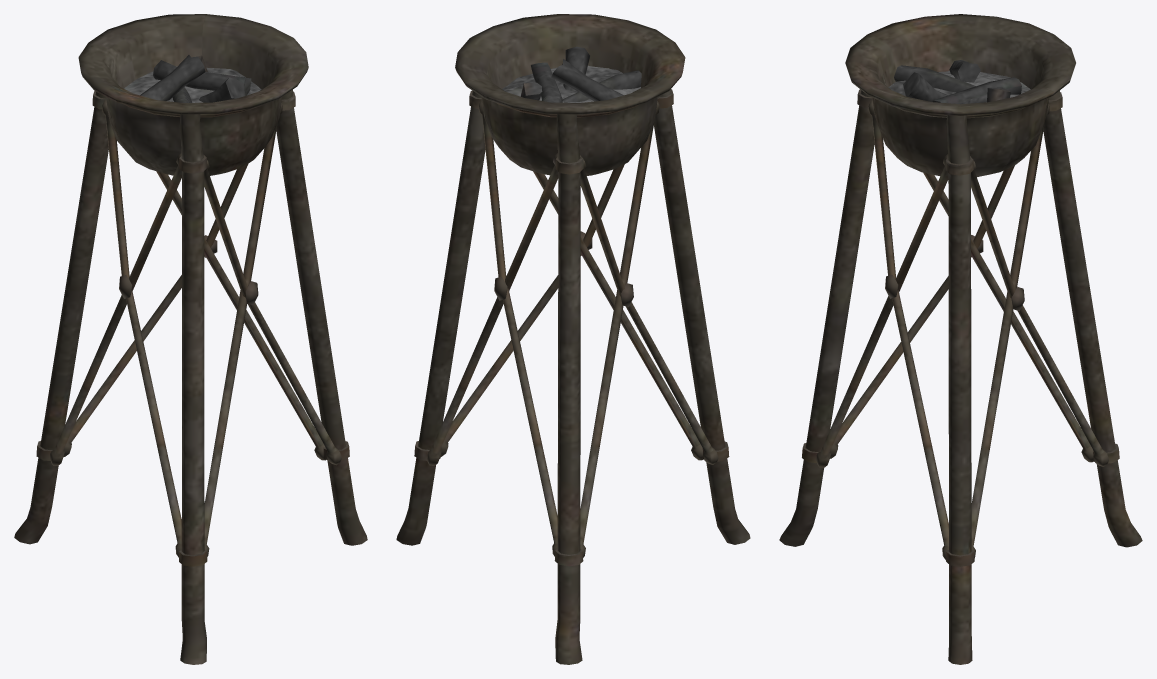
File: GEN_PRO_Brasero_Medium_Metal_04A_LOD0-transformed.glb
3 views of the same model, side by side, from view 1: azimuth 30°, elevation 25°; view 2: azimuth 150°, elevation 25°; view 3: azimuth 270°, elevation 25° (orthographic).
Visible parts, largest first — view 1: default; view 2: default; view 3: default.
Boxes of the visible parts, x1,y1,x2,y2 form: default: (14, 14, 367, 664); default: (396, 14, 750, 664); default: (779, 14, 1142, 664).
Bounding box in the file's own units: 0.6071 × 1.11 × 0.697.
2 materials, 2 textured.
